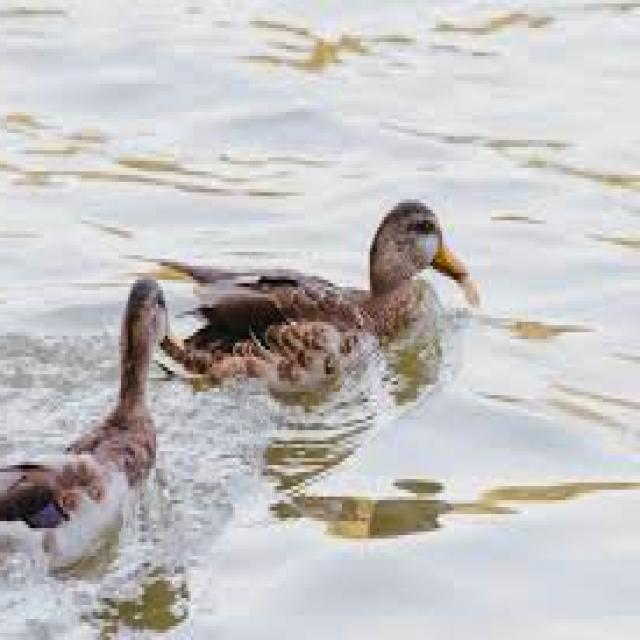duck: (163, 199, 465, 388), (2, 280, 170, 525)
